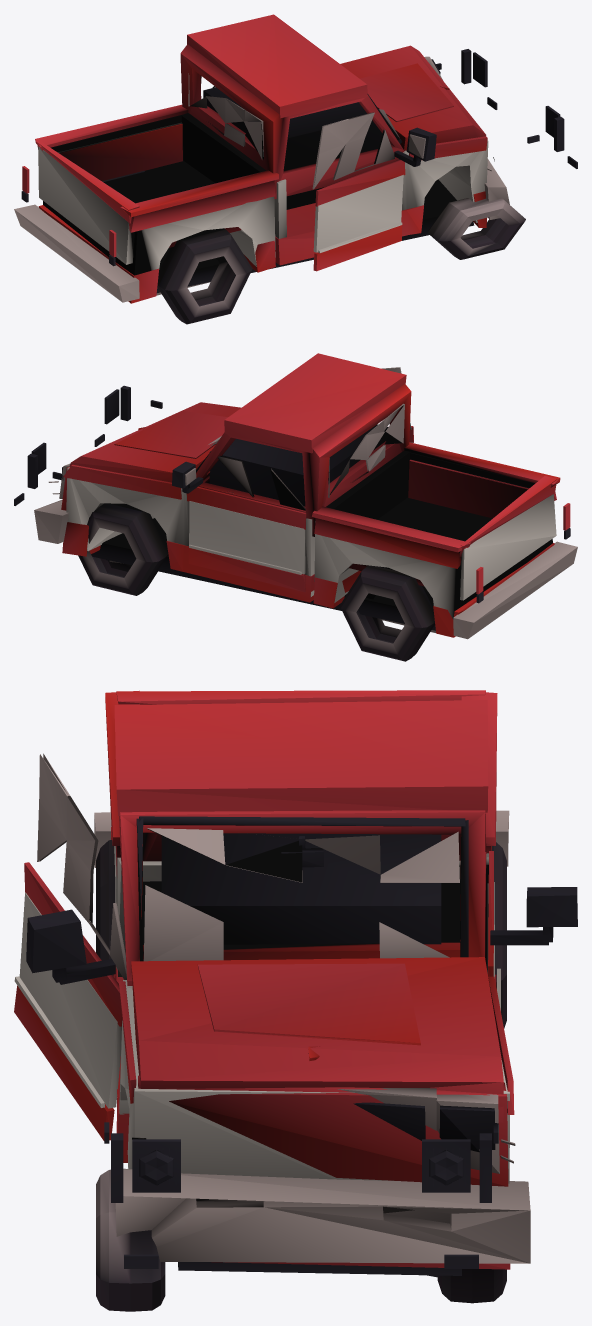
File: veh.pickup-red.wrecked.lod2.glb
The picture shows the model from 3 angles, top to bottom: view 1: azimuth 30°, elevation 25°; view 2: azimuth 150°, elevation 25°; view 3: azimuth 270°, elevation 25°; orthographic projection. The views are drawn at different scales.
Visible parts, largest first — view 1: body, wheelRL, wheelFL; view 2: body, wheelRR, wheelFR; view 3: body, wheelFL, wheelFR, wheelRL, wheelRR.
Part boxes in pixels (x1=…): body: x1=14, y1=14, x2=577, y2=303; wheelRL: x1=157, y1=228, x2=252, y2=324; wheelFL: x1=427, y1=198, x2=525, y2=259; body: x1=14, y1=353, x2=577, y2=639; wheelRR: x1=339, y1=565, x2=434, y2=661; wheelFR: x1=78, y1=503, x2=168, y2=595; body: x1=14, y1=690, x2=577, y2=1277; wheelFL: x1=96, y1=1169, x2=165, y2=1311; wheelFR: x1=437, y1=1269, x2=506, y2=1303; wheelRL: x1=96, y1=840, x2=115, y2=975; wheelRR: x1=492, y1=842, x2=506, y2=1028.
Bounding box in the file's own units: 4.96 × 2.02 × 2.61.
